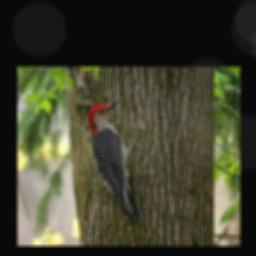Woodpecker: (88, 99, 143, 219)
